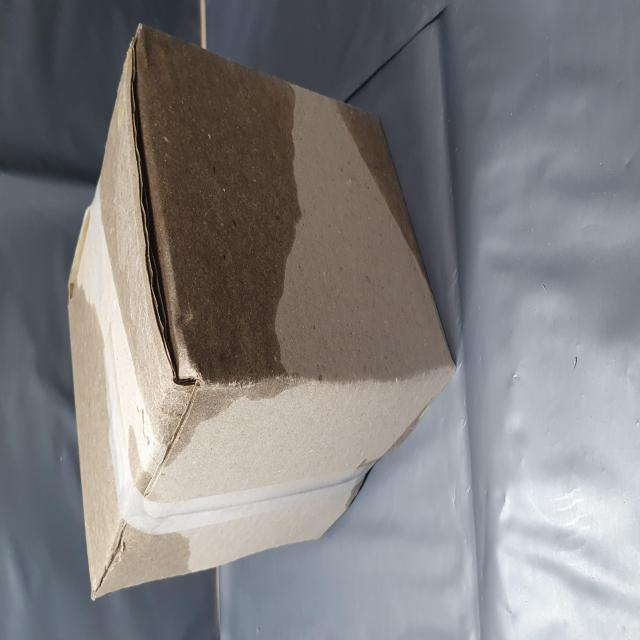wet: (21, 138, 341, 544)
